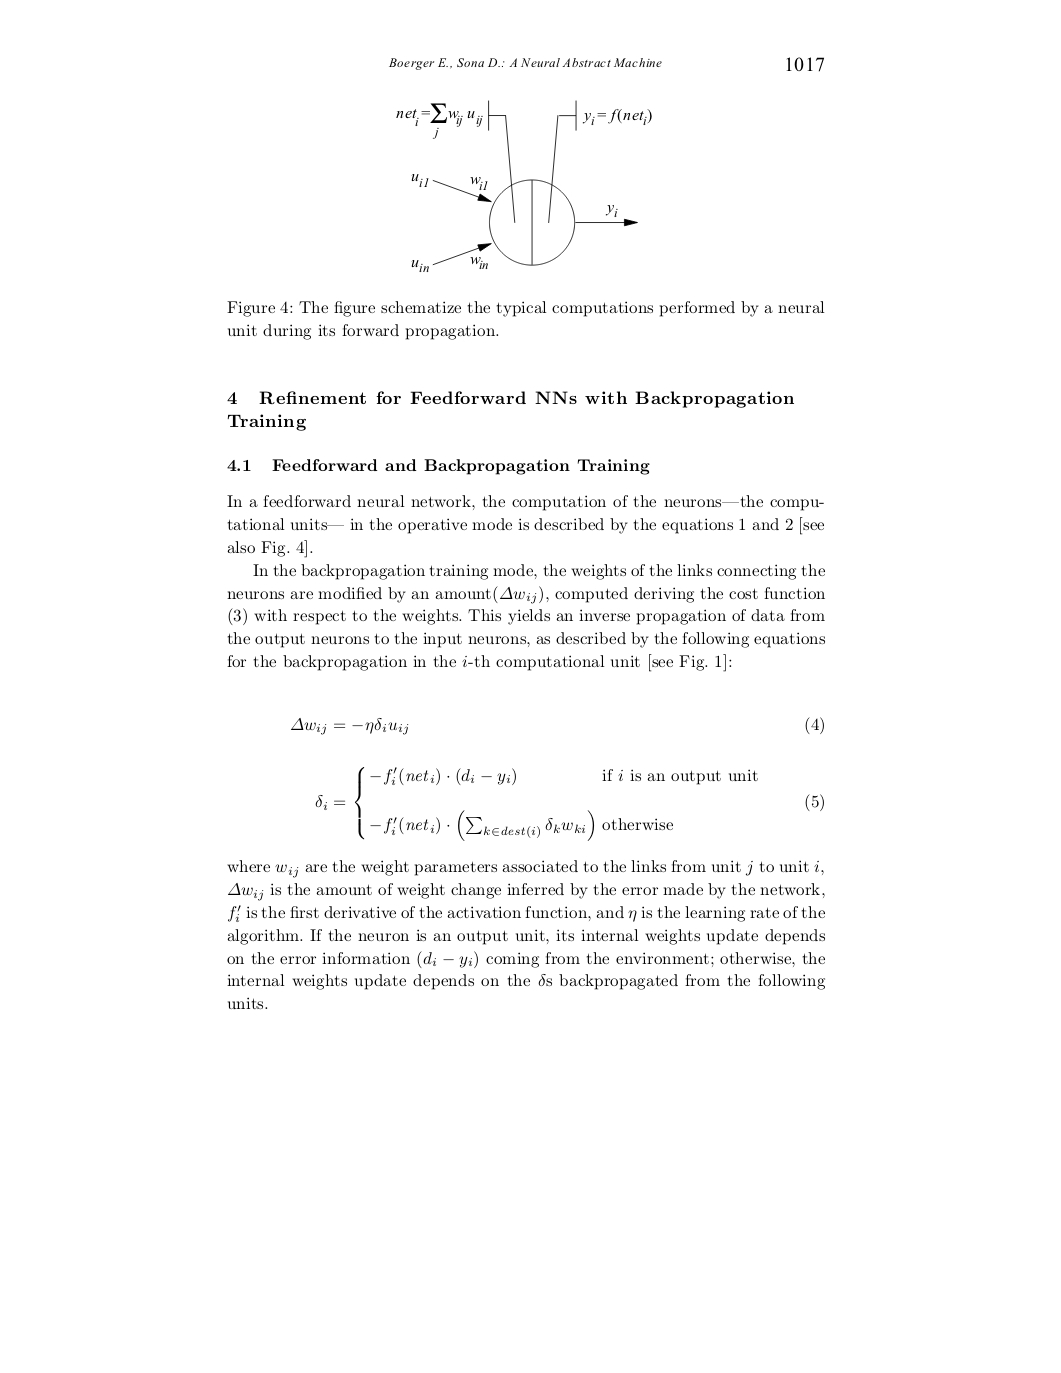figure: (396, 99, 651, 272)
formula: (315, 766, 822, 841), (291, 715, 822, 736)
